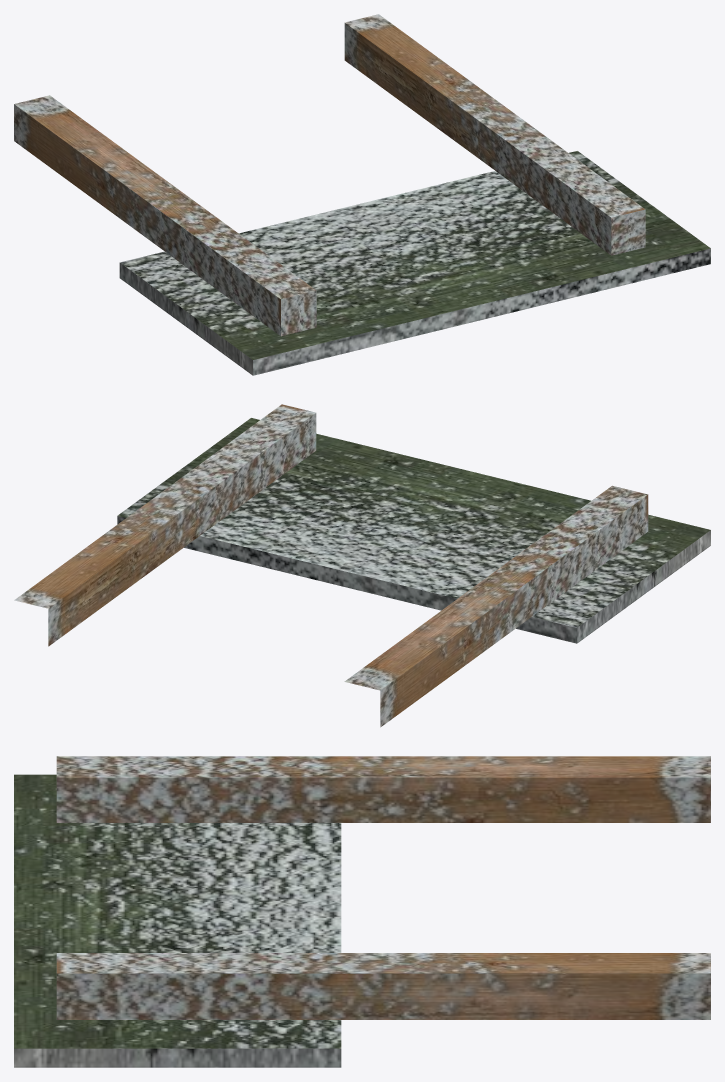
The model's file is sign_minefieldclear_snow.glb.
3 renders of one model, top to bottom at view 1: azimuth 30°, elevation 25°; view 2: azimuth 150°, elevation 25°; view 3: azimuth 270°, elevation 25°, orthographic. The views are drawn at different scales.
Size of the model in its own units: 23.78 by 2.66 by 25.56.
2 materials, 2 textured.
